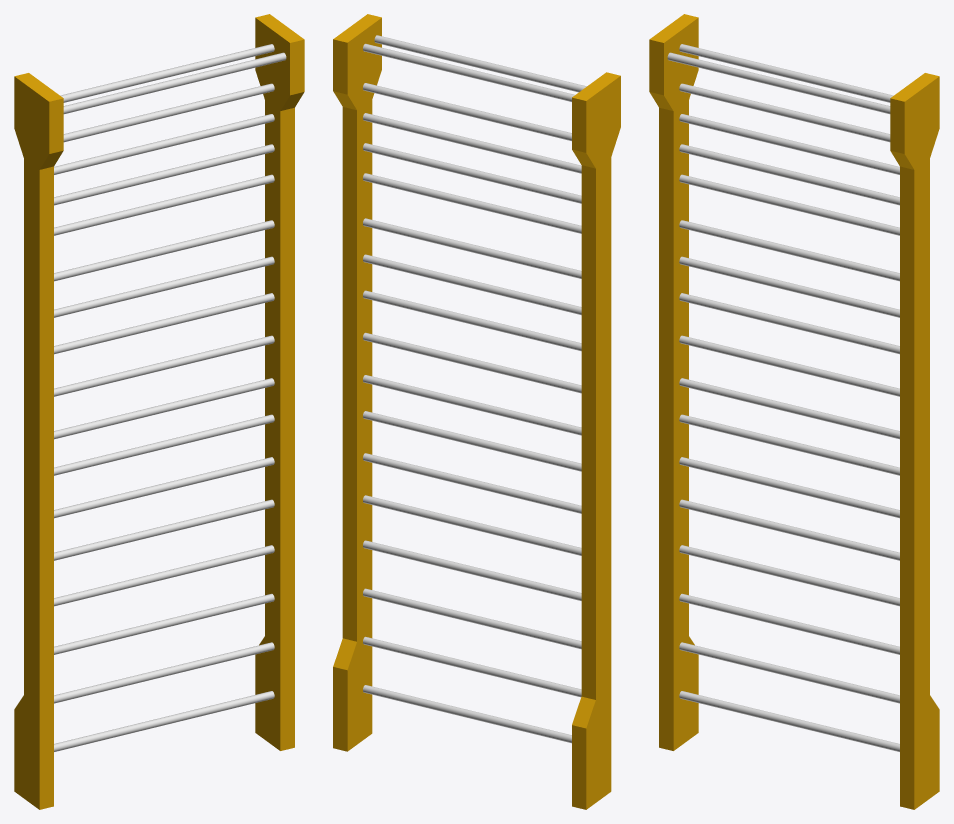
Rendered from SM_GymPart_1.fbx.
The picture shows the model from 3 angles, left to right: view 1: azimuth 30°, elevation 25°; view 2: azimuth 150°, elevation 25°; view 3: azimuth 330°, elevation 25°; orthographic projection.
Parts seen in each view (by area): view 1: SM_GymPart_1; view 2: SM_GymPart_1; view 3: SM_GymPart_1.
Part boxes in pixels (box(x1,y1,x2,y2)): SM_GymPart_1: box(14, 14, 304, 809); SM_GymPart_1: box(333, 14, 620, 809); SM_GymPart_1: box(649, 14, 939, 809).
Size of the model in its own units: 88 by 236 by 20.81.
